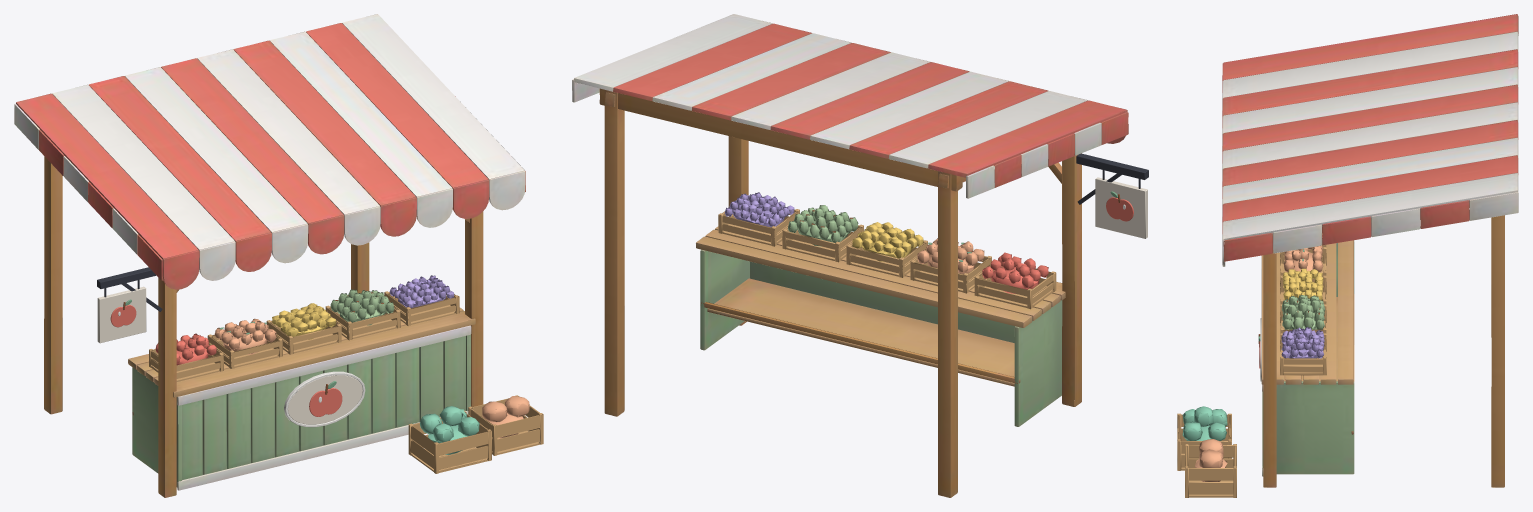
File: market-stall-light.glb
3 views of the same model, side by side, from view 1: azimuth 30°, elevation 25°; view 2: azimuth 150°, elevation 25°; view 3: azimuth 270°, elevation 25° (orthographic). The views are drawn at different scales.
Visible parts, largest first — view 1: market-stall_body, market-stall_crates, market-stall_produce, market-stall_signs; view 2: market-stall_body, market-stall_produce, market-stall_crates, market-stall_signs; view 3: market-stall_body, market-stall_produce, market-stall_crates.
Boxes of the visible parts, box(x1,y1,x2,y2) form: market-stall_body: box(14, 14, 525, 497); market-stall_crates: box(149, 290, 543, 473); market-stall_produce: box(155, 275, 529, 454); market-stall_signs: box(97, 267, 365, 427); market-stall_body: box(572, 14, 1128, 497); market-stall_produce: box(724, 192, 1048, 293); market-stall_crates: box(718, 209, 1056, 309); market-stall_signs: box(1076, 153, 1148, 238); market-stall_body: box(1222, 14, 1518, 487); market-stall_produce: box(1182, 235, 1325, 481); market-stall_crates: box(1177, 234, 1326, 497).
Bounding box in the file's own units: 3.64 × 2.65 × 2.66.
15 materials, 1 textured.
